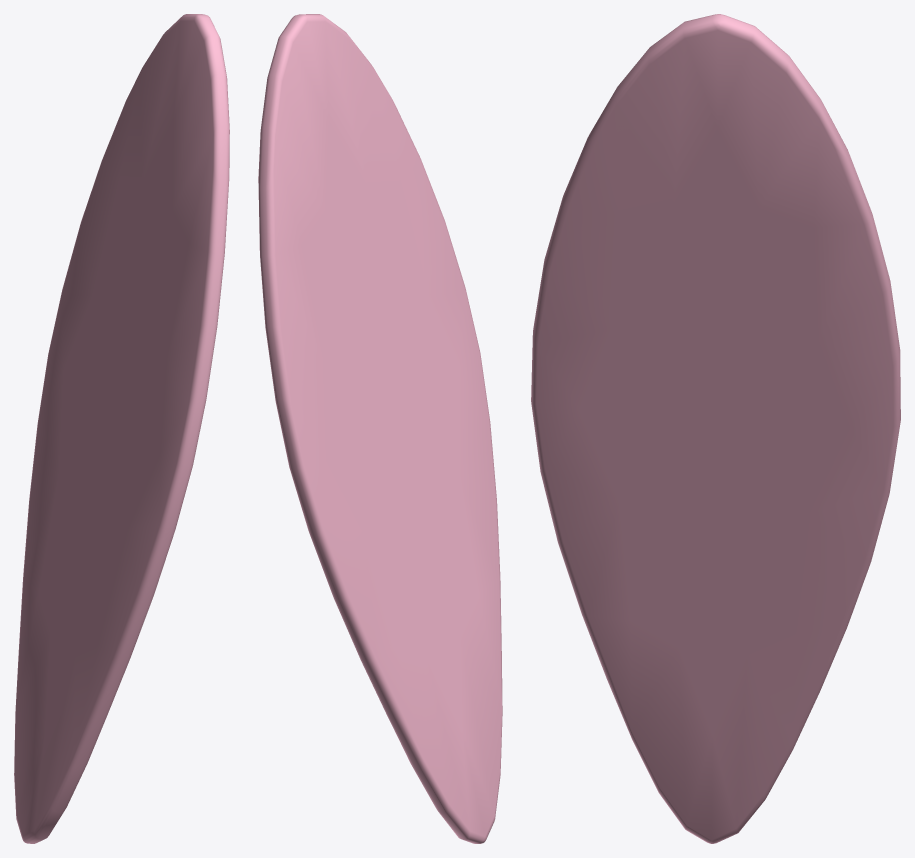
File: pinkFlower_24.glb
3 renders of one model, left to right at view 1: azimuth 30°, elevation 25°; view 2: azimuth 150°, elevation 25°; view 3: azimuth 270°, elevation 25°, orthographic. The views are drawn at different scales.
Visible parts, largest first — view 1: Petal_04_Elongated.089; view 2: Petal_04_Elongated.089; view 3: Petal_04_Elongated.089.
Boxes of the visible parts, x1,y1,x2,y2 form: Petal_04_Elongated.089: [14, 14, 229, 843]; Petal_04_Elongated.089: [258, 14, 502, 843]; Petal_04_Elongated.089: [531, 14, 900, 843].
Bounding box in the file's own units: 0.6283 × 2.48 × 0.8981.
